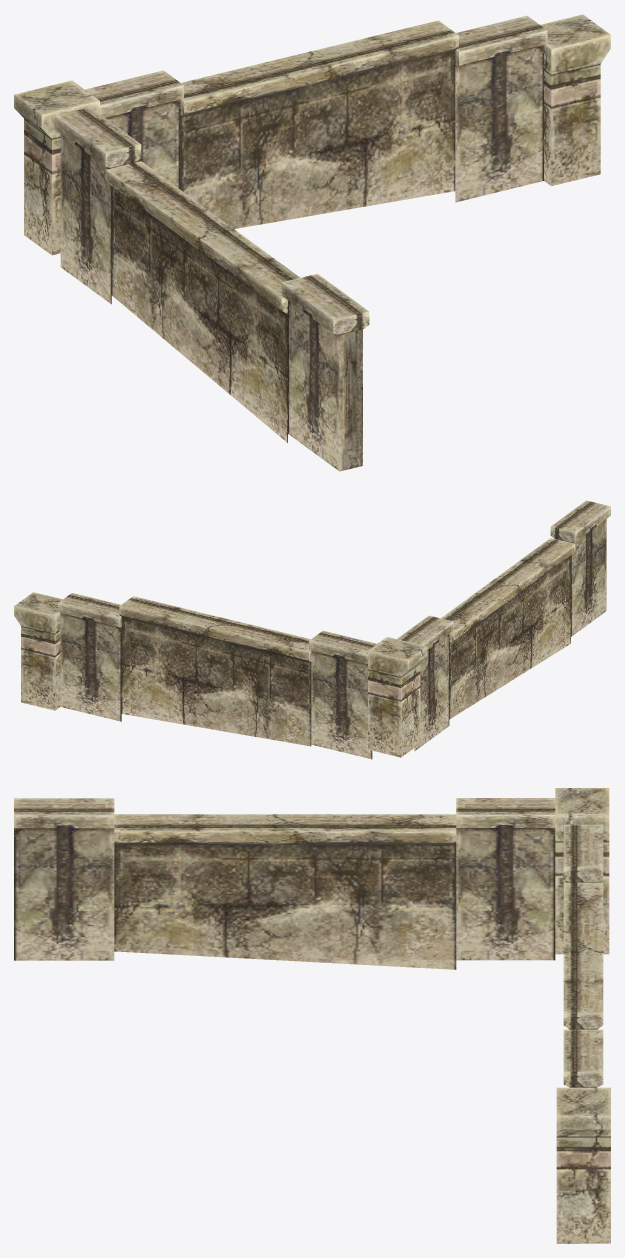
File: OZ_20_wv_T04rail01E.glb
3 views of the same model, one above another, from view 1: azimuth 30°, elevation 25°; view 2: azimuth 150°, elevation 25°; view 3: azimuth 270°, elevation 25° (orthographic). The views are drawn at different scales.
Parts seen in each view (by area): view 1: OM_20_wv_T04rail01E; view 2: OM_20_wv_T04rail01E; view 3: OM_20_wv_T04rail01E.
Part boxes in pixels (x1,y1,x2,y2): OM_20_wv_T04rail01E: [14, 14, 610, 471]; OM_20_wv_T04rail01E: [14, 500, 610, 759]; OM_20_wv_T04rail01E: [14, 788, 610, 1243].
Bounding box in the file's own units: 6.44 × 2.12 × 6.02.
Materials: 1 (1 with a texture image).
